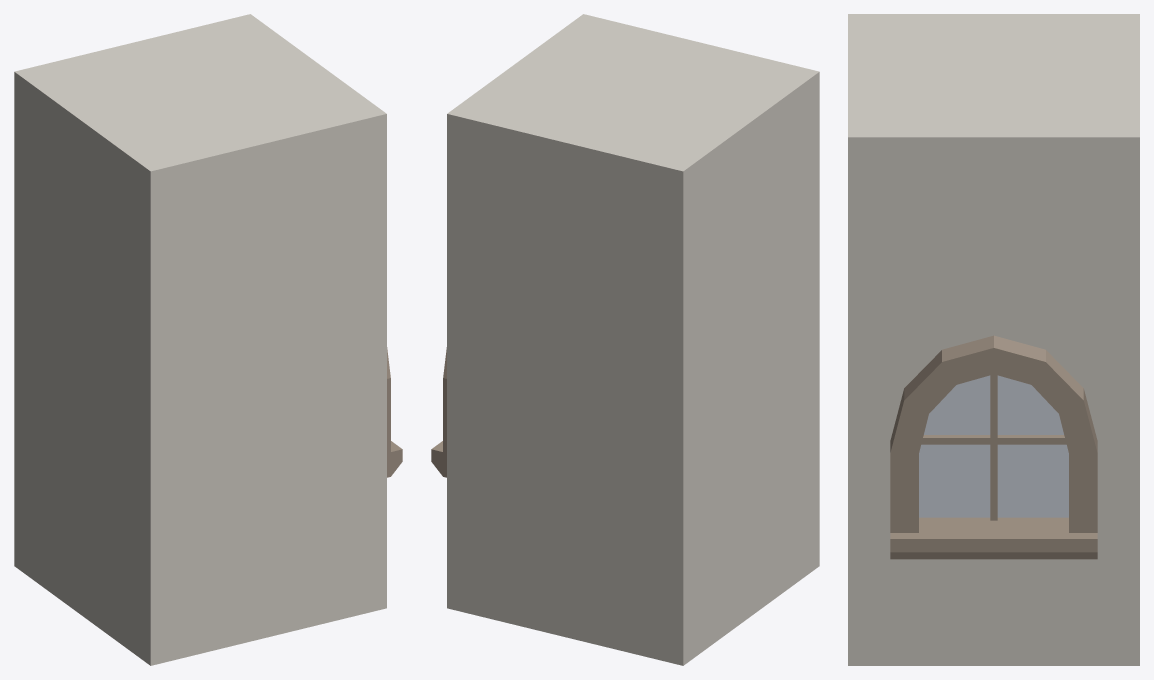
File: Stucco_Window_Rounded_Narrow_Tall.glb
The picture shows the model from 3 angles, left to right: view 1: azimuth 30°, elevation 25°; view 2: azimuth 150°, elevation 25°; view 3: azimuth 270°, elevation 25°; orthographic projection. The views are drawn at different scales.
Parts seen in each view (by area): view 1: object2, object3; view 2: object2, object3; view 3: object2, object3, object1.
Part boxes in pixels (x1,y1,x2,y2): object2: (14,14,386,665); object3: (387,347,402,477); object2: (447,14,819,665); object3: (431,347,446,477); object2: (848,14,1139,665); object3: (890,335,1097,559); object1: (921,374,1066,520).
Bounding box in the file's own units: 1.15 × 2 × 1.
